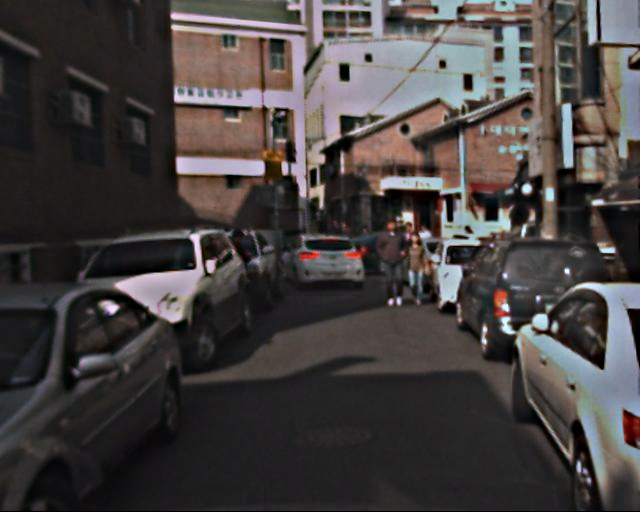person: (375, 220, 411, 307), (222, 231, 257, 317), (401, 236, 431, 308)
